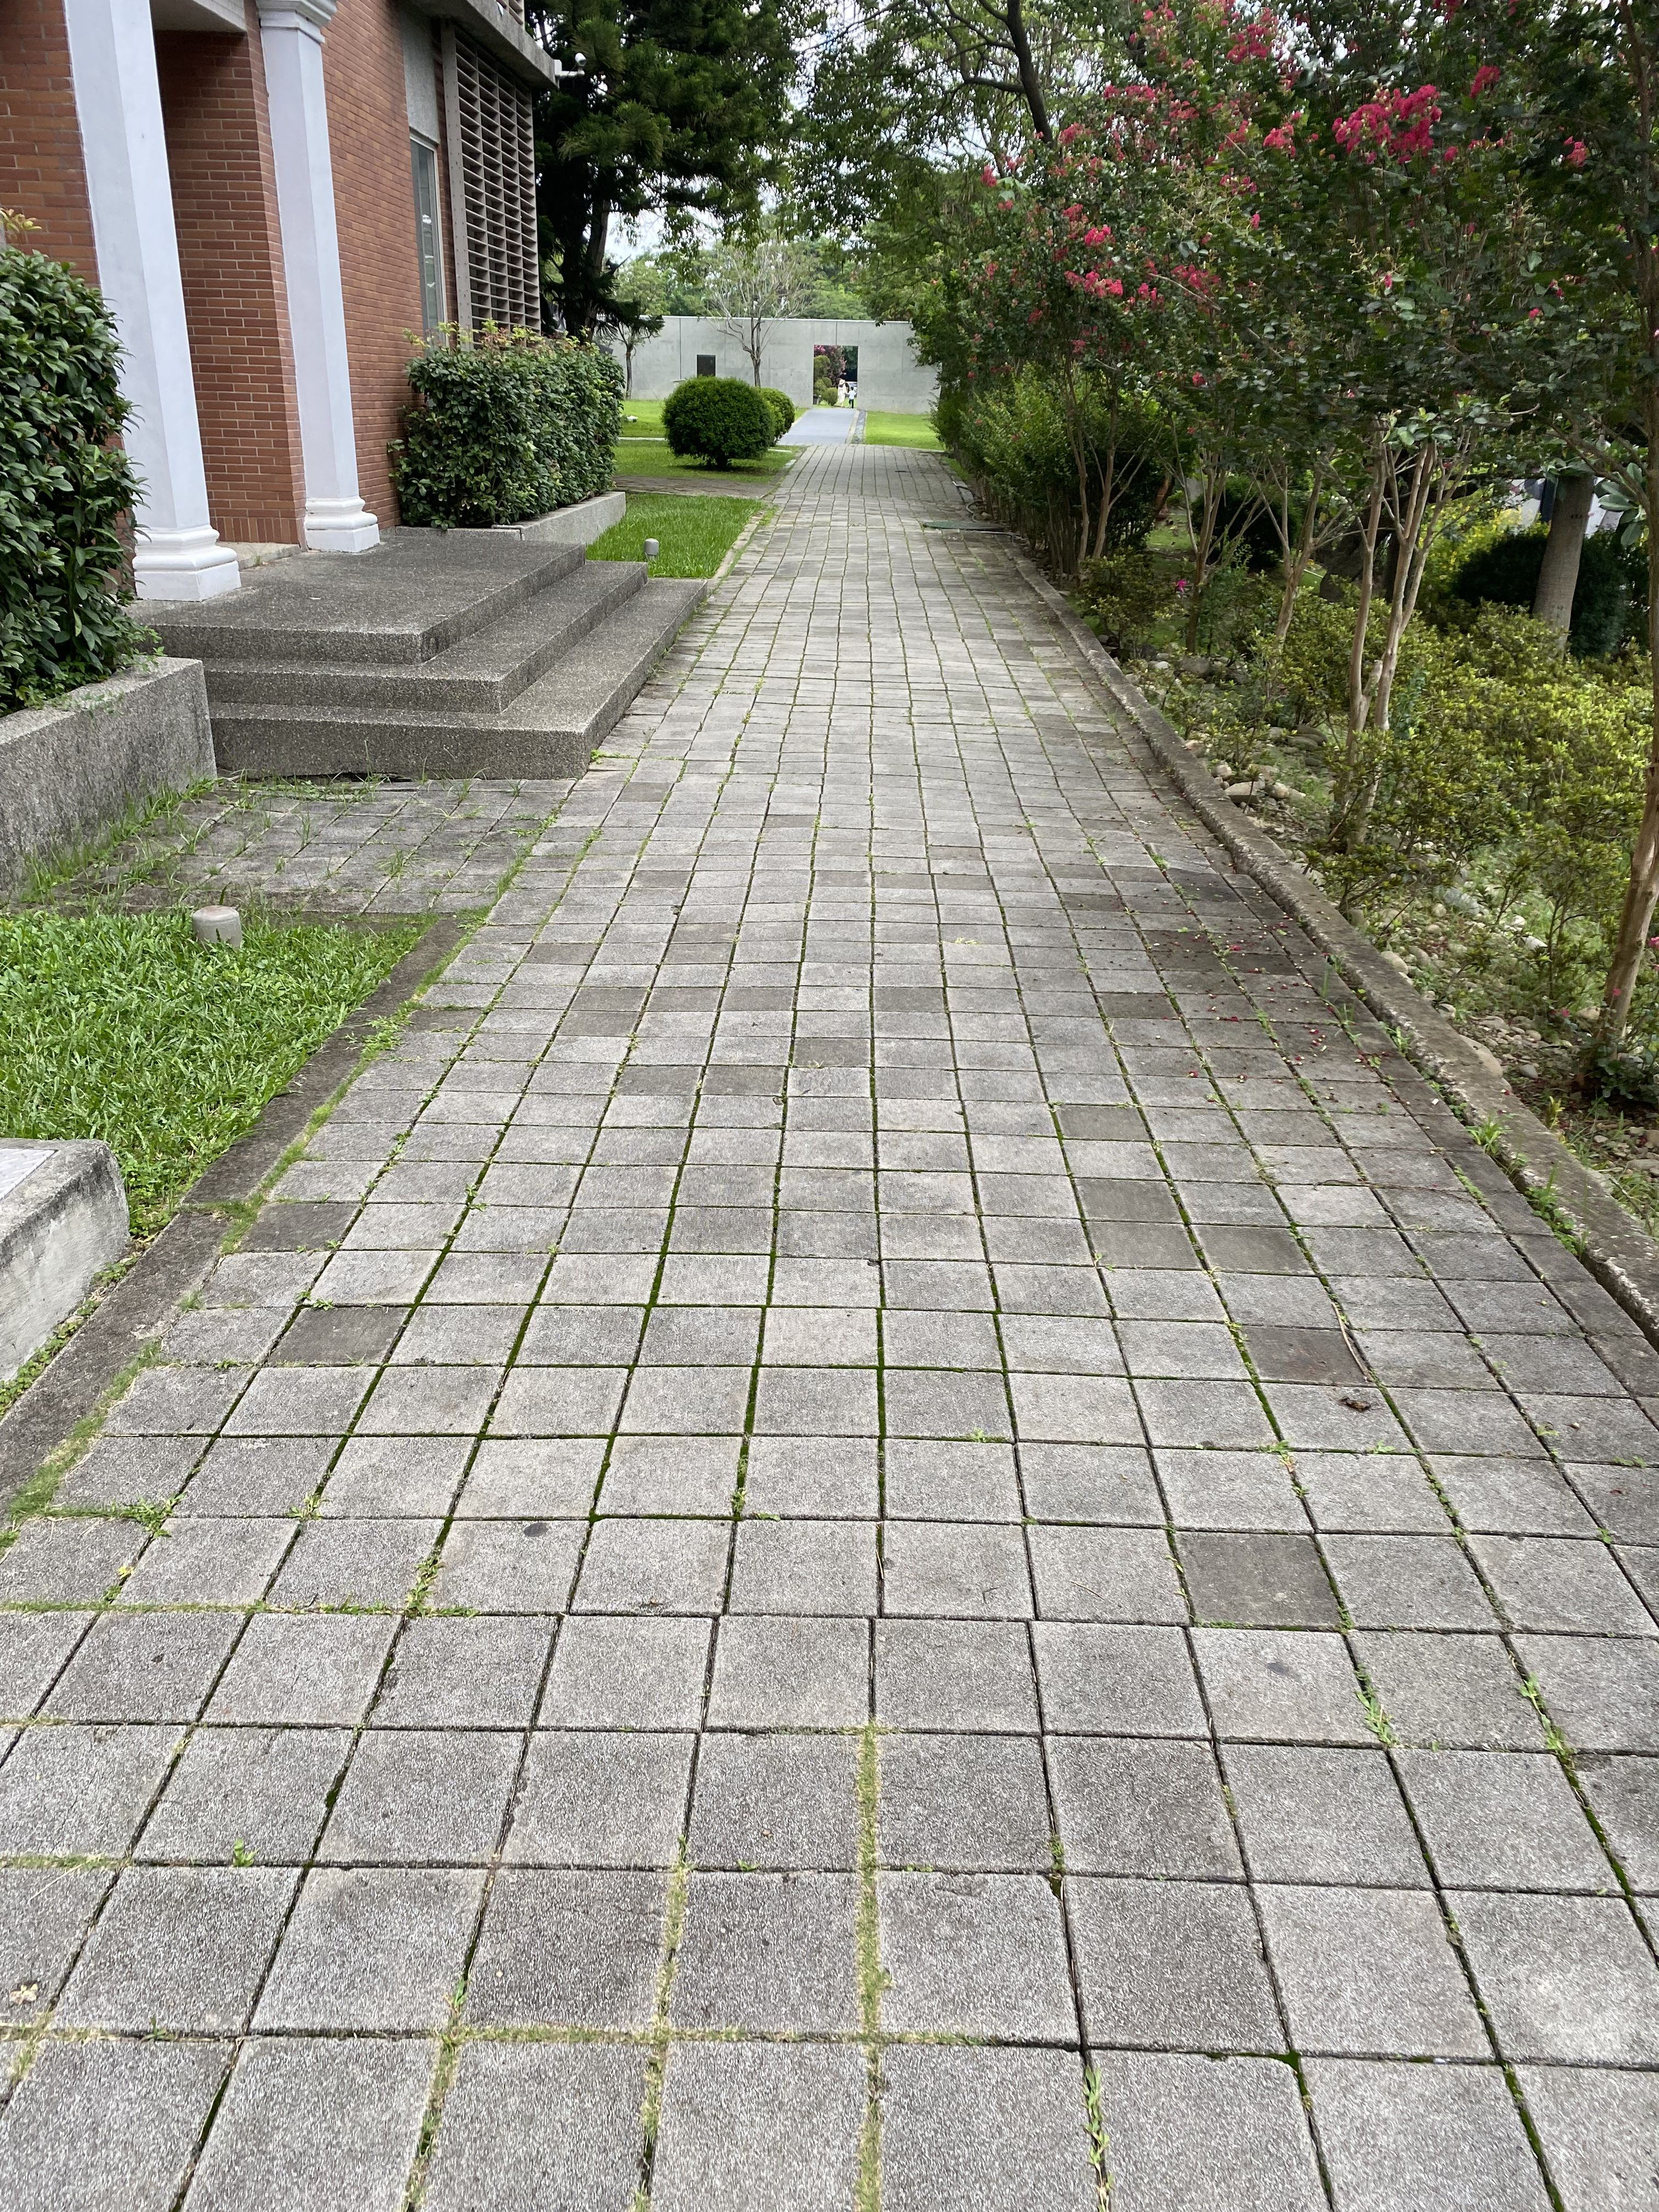0: (23, 566, 1659, 2212)
sidewalk: (765, 441, 1019, 1561)
